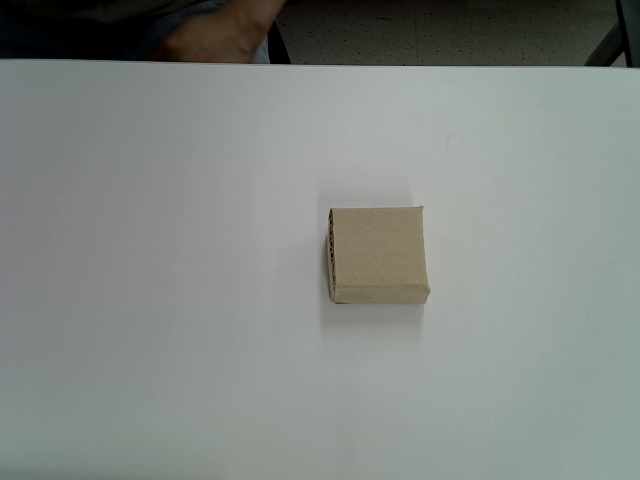normal: (326, 205, 433, 306)
